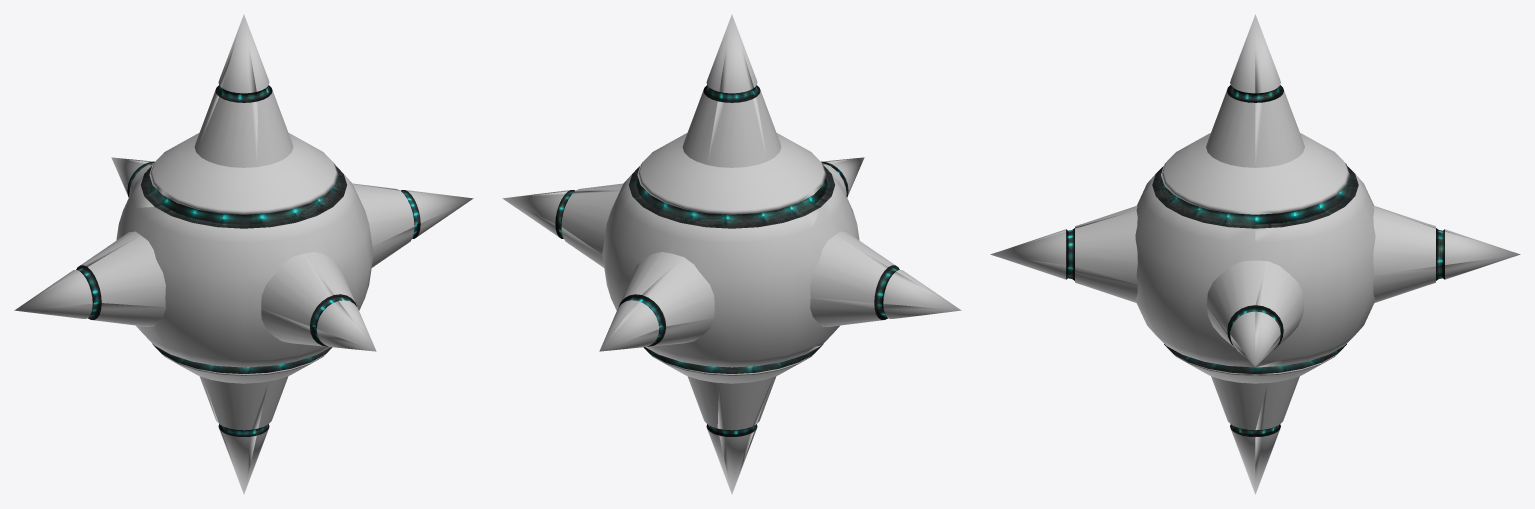
Rendered from spikeball_big.fbx.
3 renders of one model, left to right at view 1: azimuth 30°, elevation 25°; view 2: azimuth 150°, elevation 25°; view 3: azimuth 270°, elevation 25°, orthographic.
Parts seen in each view (by area): view 1: Mesh; view 2: Mesh; view 3: Mesh.
Part boxes in pixels (x1,y1,x2,y2): Mesh: [14, 14, 473, 494]; Mesh: [502, 14, 961, 494]; Mesh: [990, 14, 1520, 494].
Bounding box in the file's own units: 409 × 409 × 409.
